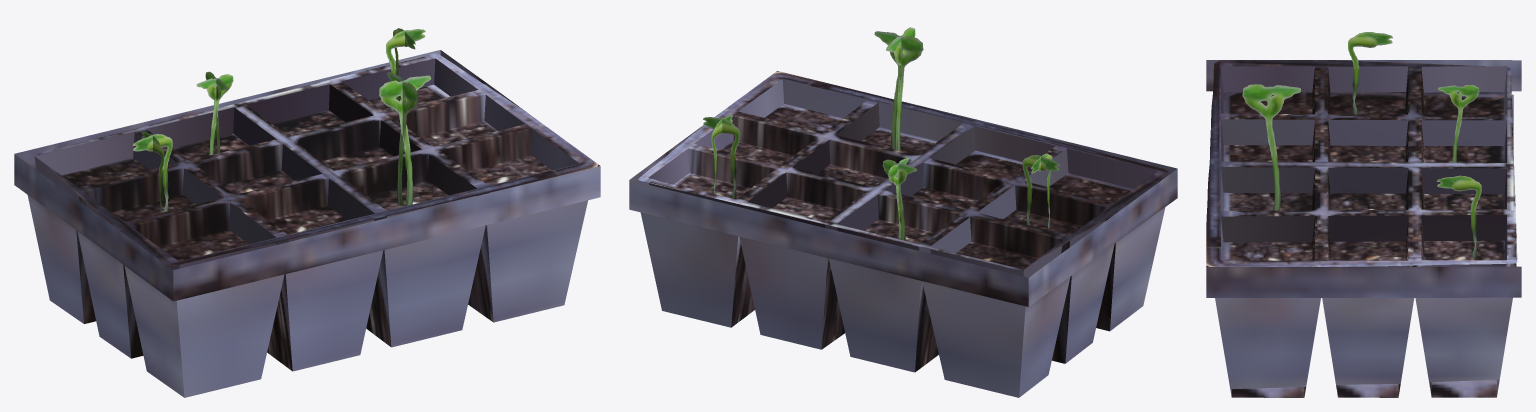
Rendered from germination.FBX.
The picture shows the model from 3 angles, left to right: view 1: azimuth 30°, elevation 25°; view 2: azimuth 150°, elevation 25°; view 3: azimuth 270°, elevation 25°; orthographic projection. The views are drawn at different scales.
Parts seen in each view (by area): view 1: germination; view 2: germination; view 3: germination.
Part boxes in pixels (x1=…): germination: x1=14, y1=28, x2=600, y2=397; germination: x1=629, y1=27, x2=1177, y2=397; germination: x1=1206, y1=32, x2=1521, y2=397.
Size of the model in its own units: 61.72 by 34.93 by 39.78.
